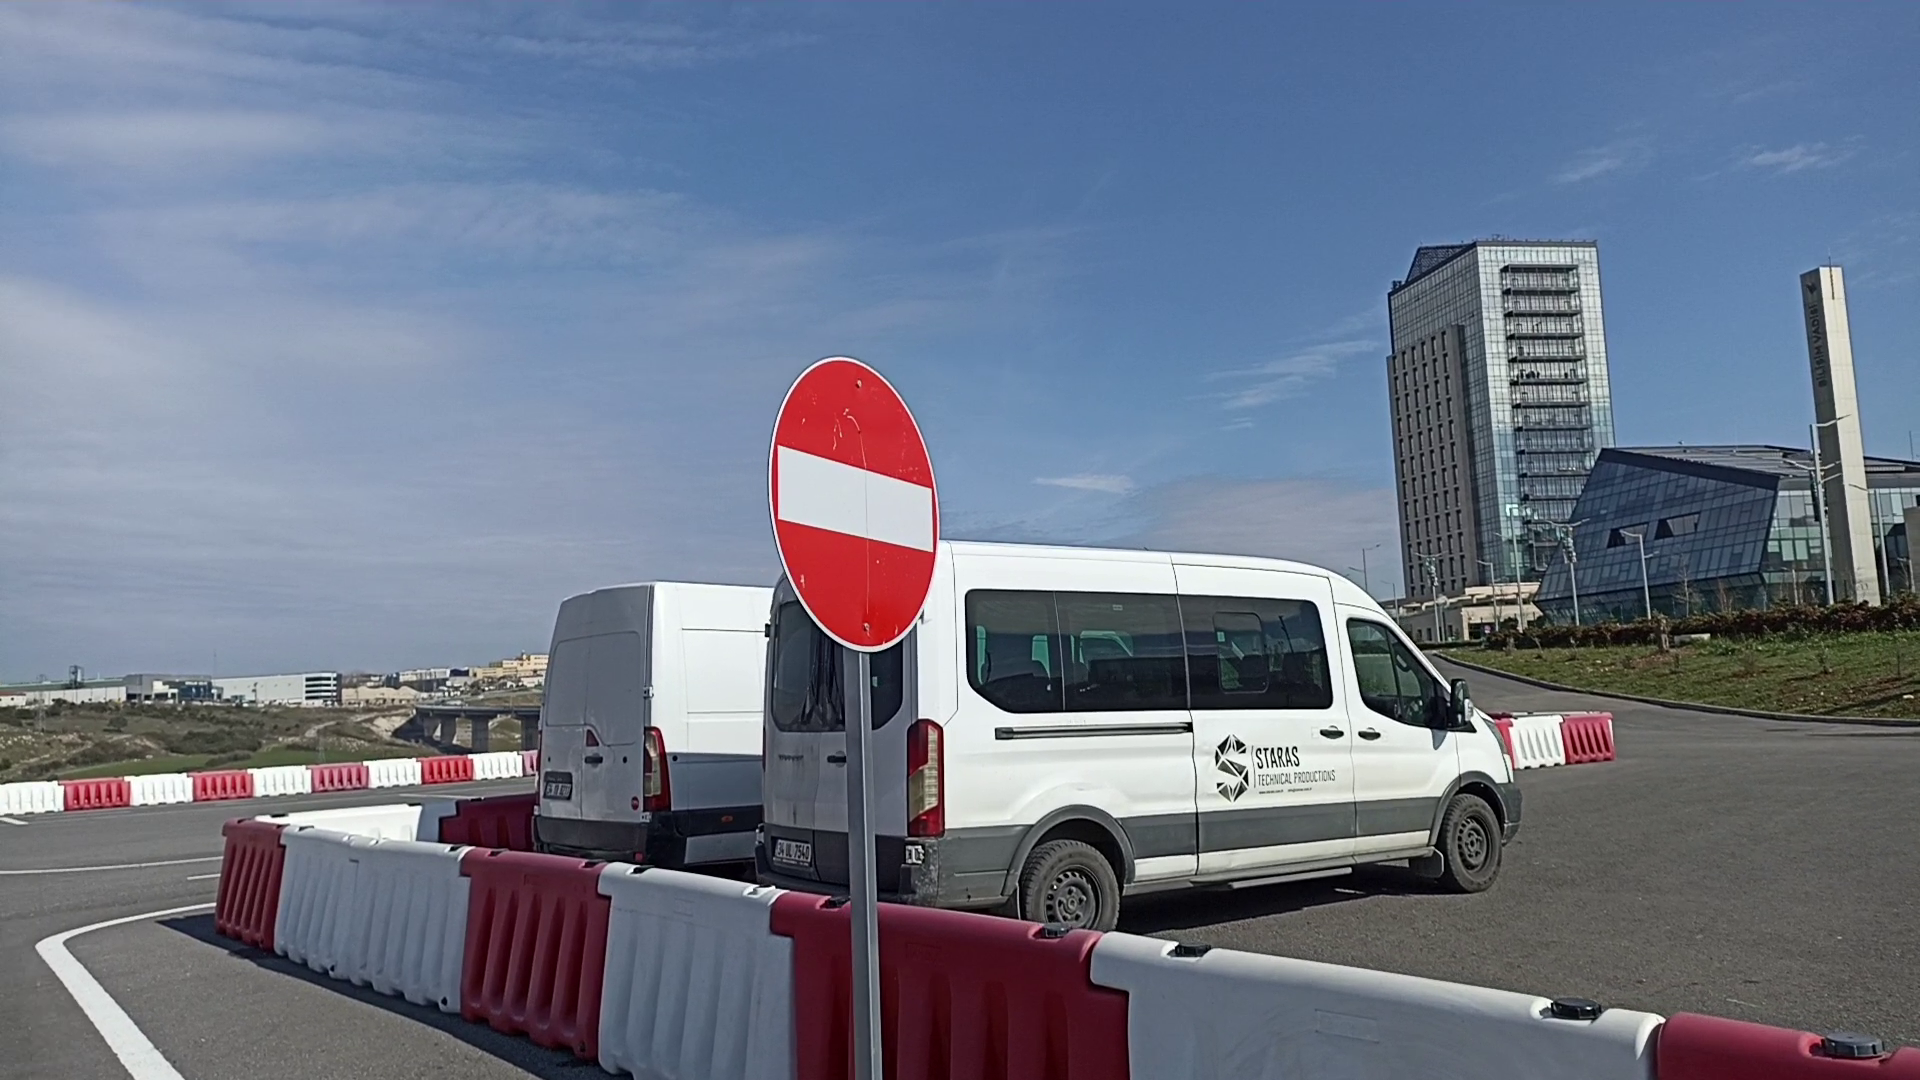noentryway: (761, 352, 945, 655)
